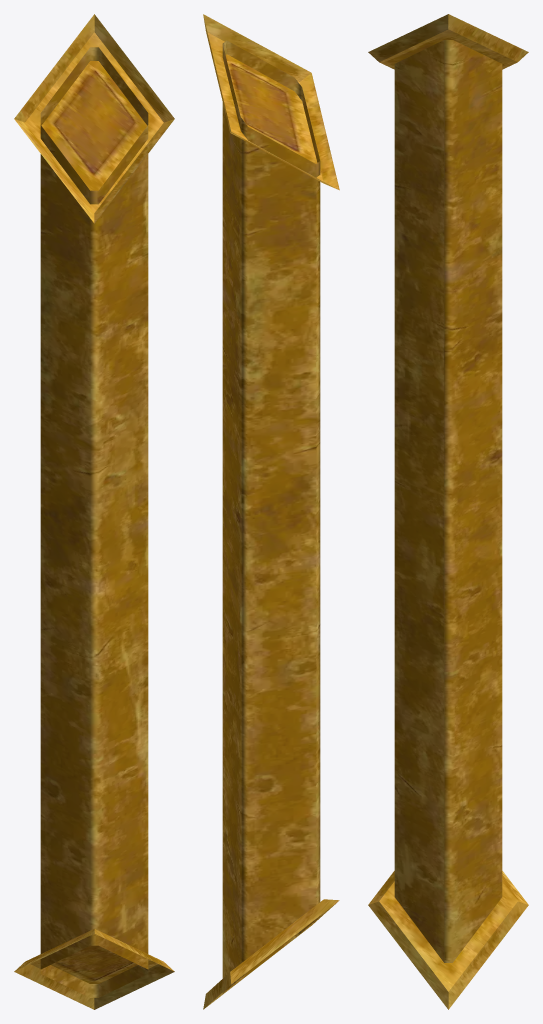
3 renders of one model, left to right at view 1: azimuth 90°, elevation 25°; view 2: azimuth 150°, elevation 25°; view 3: azimuth 270°, elevation 25°, orthographic.
Parts seen in each view (by area): view 1: SM_Dragonkin_Pipe_L_Shape_02_v1_LOD0; view 2: SM_Dragonkin_Pipe_L_Shape_02_v1_LOD0; view 3: SM_Dragonkin_Pipe_L_Shape_02_v1_LOD0.
Part boxes in pixels (x1=…): SM_Dragonkin_Pipe_L_Shape_02_v1_LOD0: x1=14, y1=14, x2=174, y2=1009; SM_Dragonkin_Pipe_L_Shape_02_v1_LOD0: x1=203, y1=14, x2=339, y2=1009; SM_Dragonkin_Pipe_L_Shape_02_v1_LOD0: x1=368, y1=14, x2=528, y2=1009.
Size of the model in its own units: 0.6712 by 4.67 by 0.6837.
